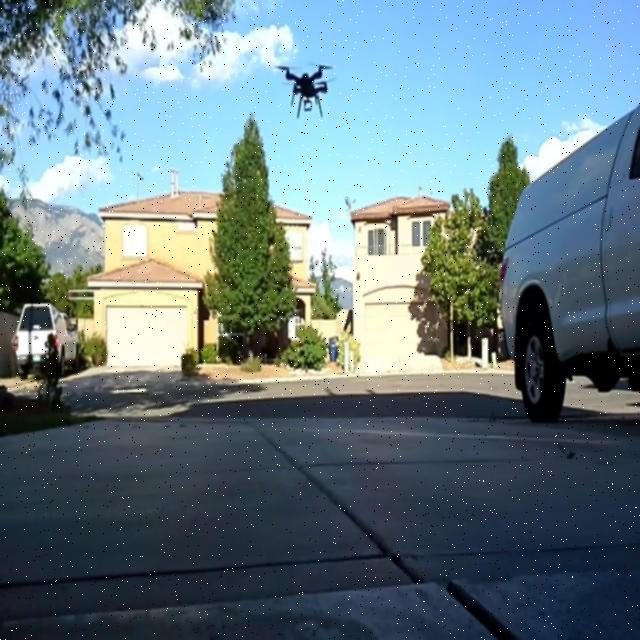UAV: (274, 65, 334, 119)
